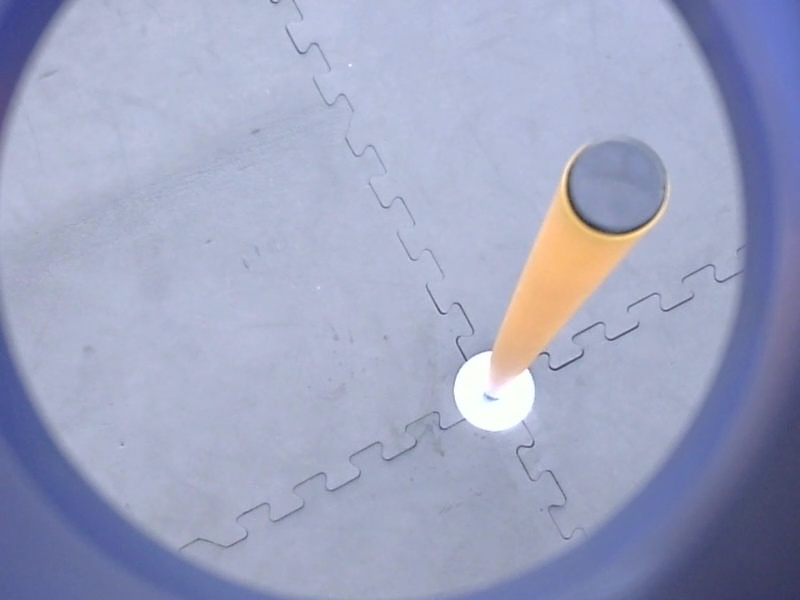tip: (556, 130, 678, 247)
